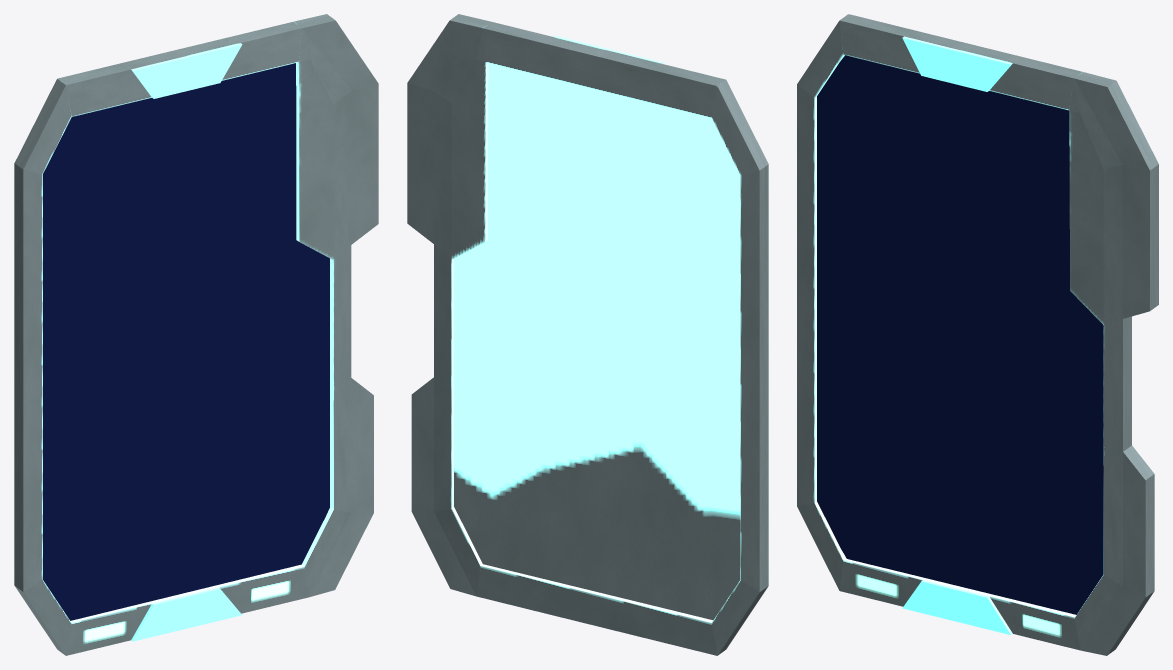
The model's file is CORRECCION_MARCO_LOW.fbx.
3 renders of one model, left to right at view 1: azimuth 30°, elevation 25°; view 2: azimuth 150°, elevation 25°; view 3: azimuth 330°, elevation 25°, orthographic.
Visible parts, largest first — view 1: MARCO_LOW; view 2: MARCO_LOW; view 3: MARCO_LOW.
Boxes of the visible parts, x1,y1,x2,y2 form: MARCO_LOW: [14, 14, 378, 655]; MARCO_LOW: [407, 14, 768, 655]; MARCO_LOW: [797, 14, 1158, 655].
Size of the model in its own units: 87.58 by 135 by 5.6.
